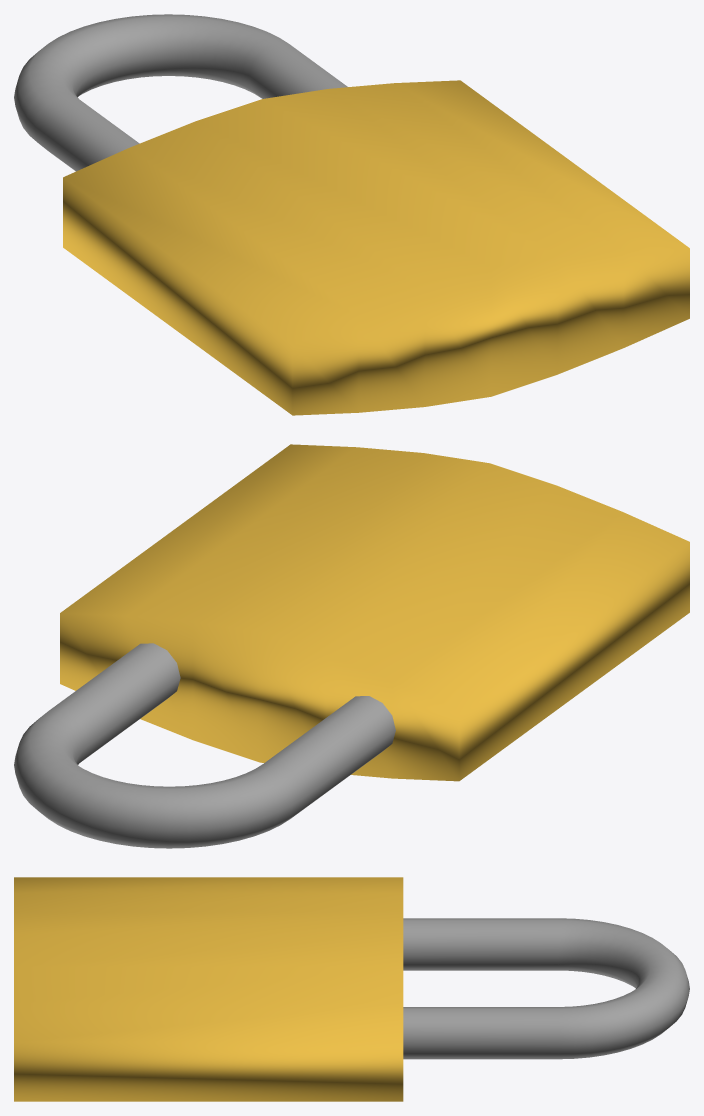
File: AGPKey.fbx
The picture shows the model from 3 angles, top to bottom: view 1: azimuth 30°, elevation 25°; view 2: azimuth 150°, elevation 25°; view 3: azimuth 270°, elevation 25°; orthographic projection. The views are drawn at different scales.
Visible parts, largest first — view 1: Cube; view 2: Cube; view 3: Cube.
Boxes of the visible parts, x1,y1,x2,y2 form: Cube: (14,14,689,415); Cube: (14,444,689,848); Cube: (14,877,689,1101).
Size of the model in its own units: 200 by 62.37 by 347.
